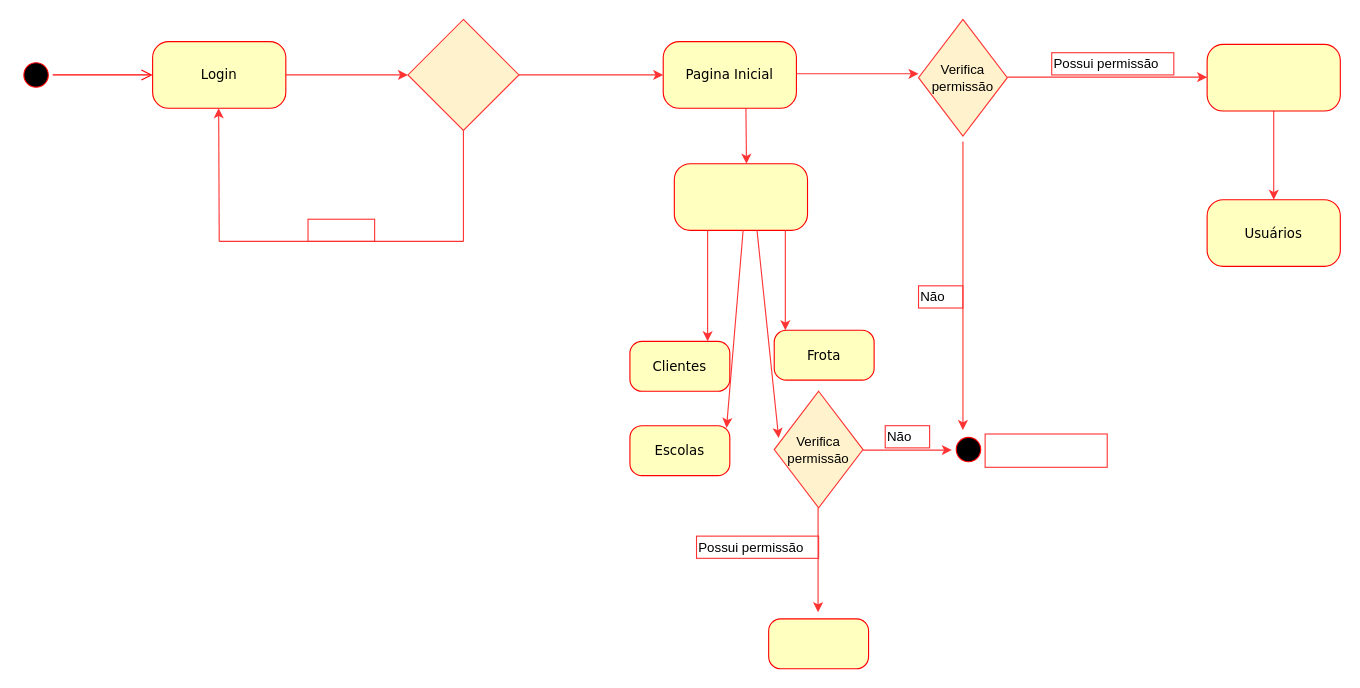
The diagram is 1360 pixels wide and 688 high, and some of its shapes have lost their labels. The box of each missing label's shape, as (x1, y1, x2, y2) in pixels:
Administração: (1206, 43, 1340, 111)
Financeiro: (768, 618, 869, 669)
Gestão: (673, 163, 808, 230)
Não tem: (307, 218, 375, 241)
Página Bloqueada: (984, 433, 1107, 467)
Valida permissão: (407, 18, 519, 130)
